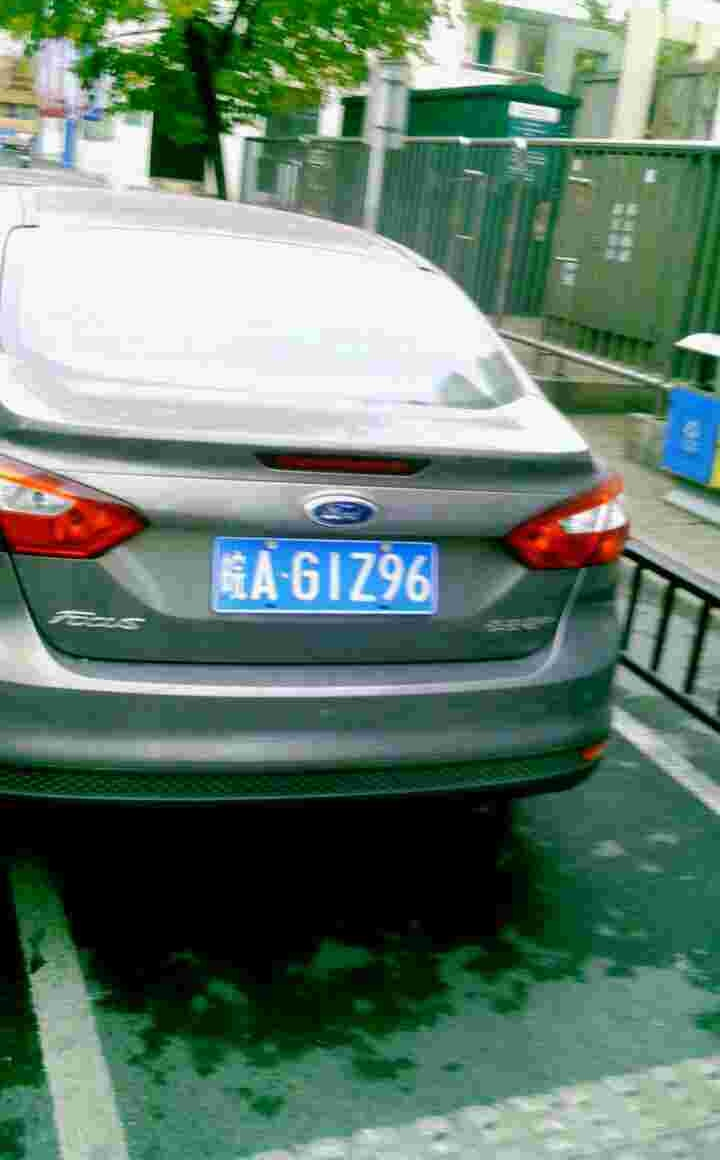license_plate: (217, 538, 443, 616)
